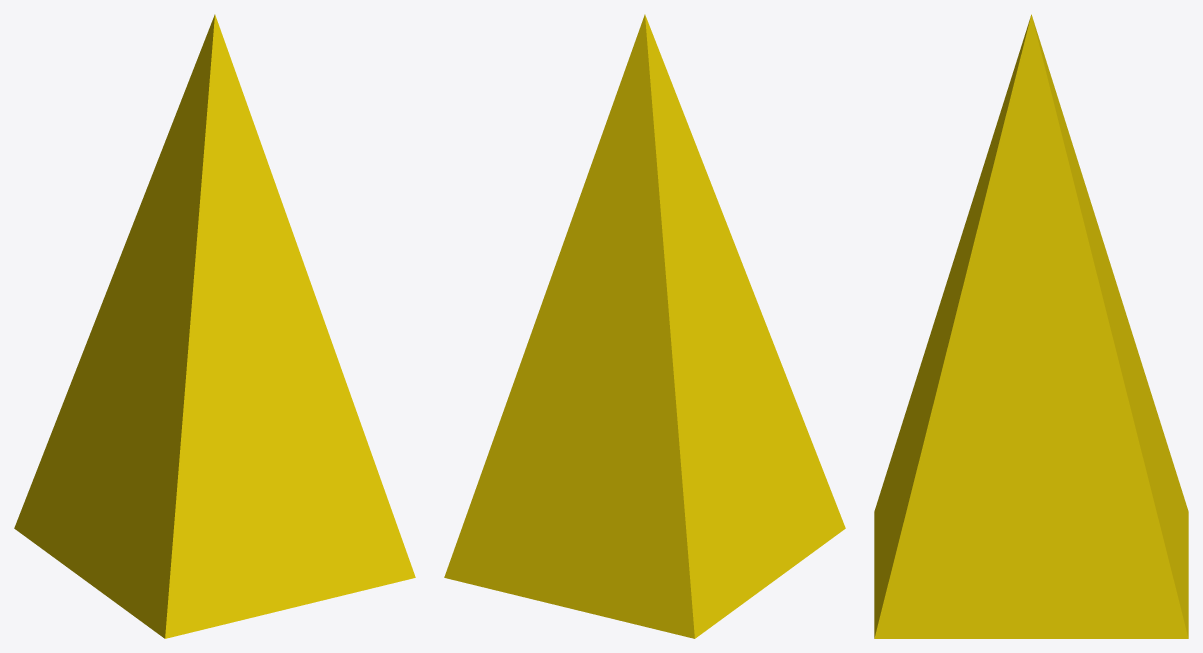
File: overworld_marker.fbx
3 renders of one model, left to right at view 1: azimuth 30°, elevation 25°; view 2: azimuth 150°, elevation 25°; view 3: azimuth 270°, elevation 25°, orthographic. The views are drawn at different scales.
Parts seen in each view (by area): view 1: node_id5; view 2: node_id5; view 3: node_id5.
Boxes of the visible parts, x1,y1,x2,y2 form: node_id5: (14, 14, 415, 638); node_id5: (444, 14, 845, 638); node_id5: (874, 14, 1188, 638).
Bounding box in the file's own units: 0.2492 × 0.512 × 0.2598.
